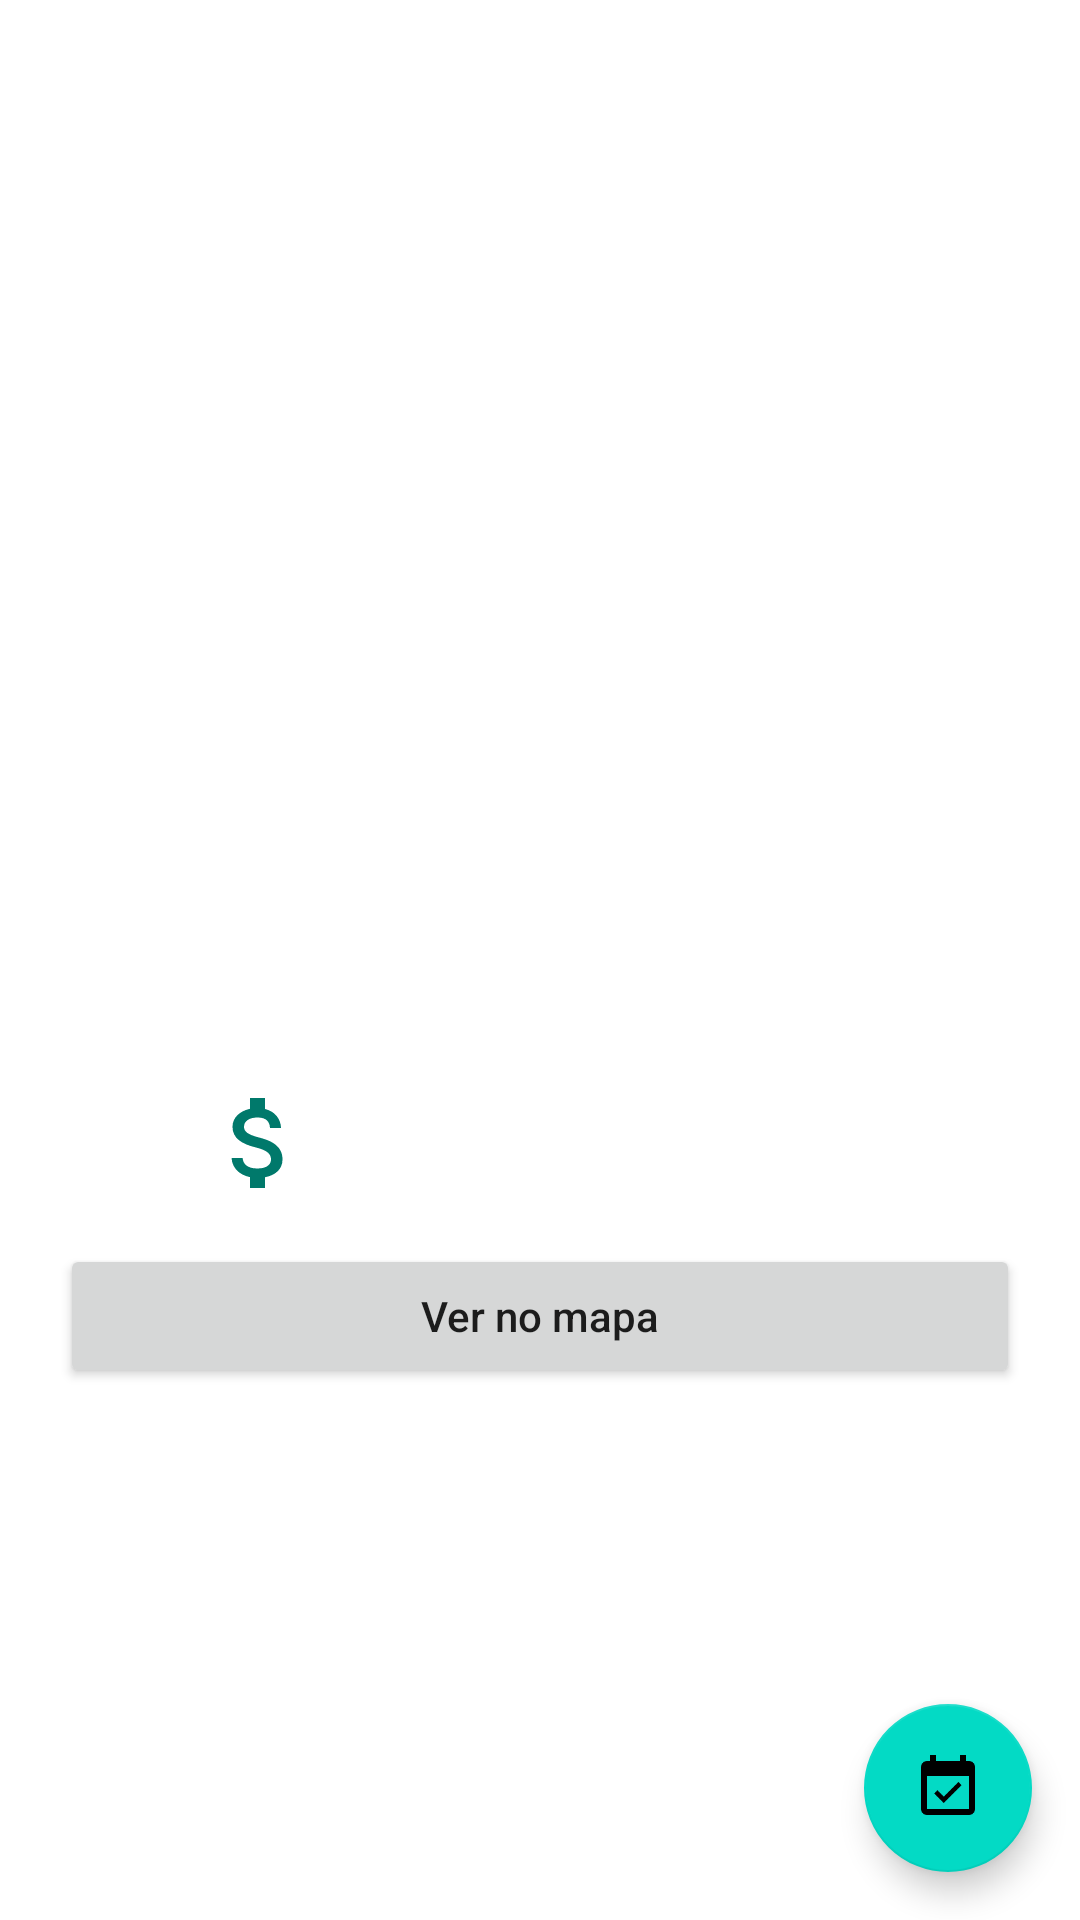

Where to tap for icons on this 1080 × 1920 app screen, as point (x, y):
Fazer Check - In: point (948, 1788)
Icon Money: point (257, 1143)
